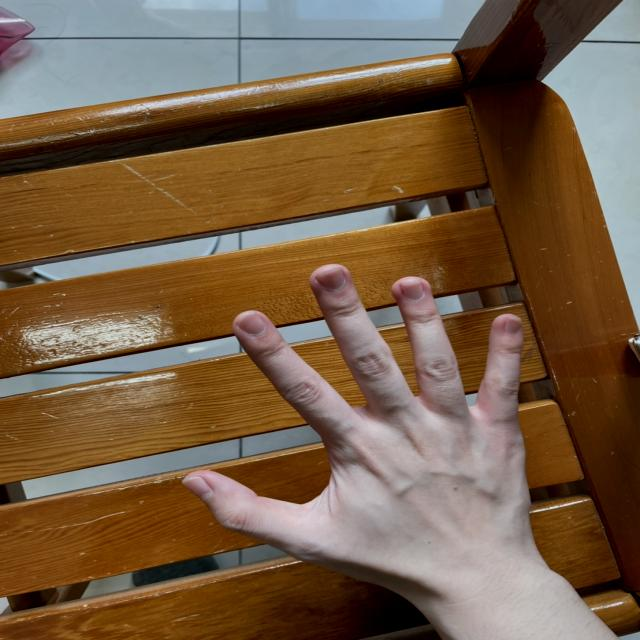no_glove: (173, 252, 553, 602)
